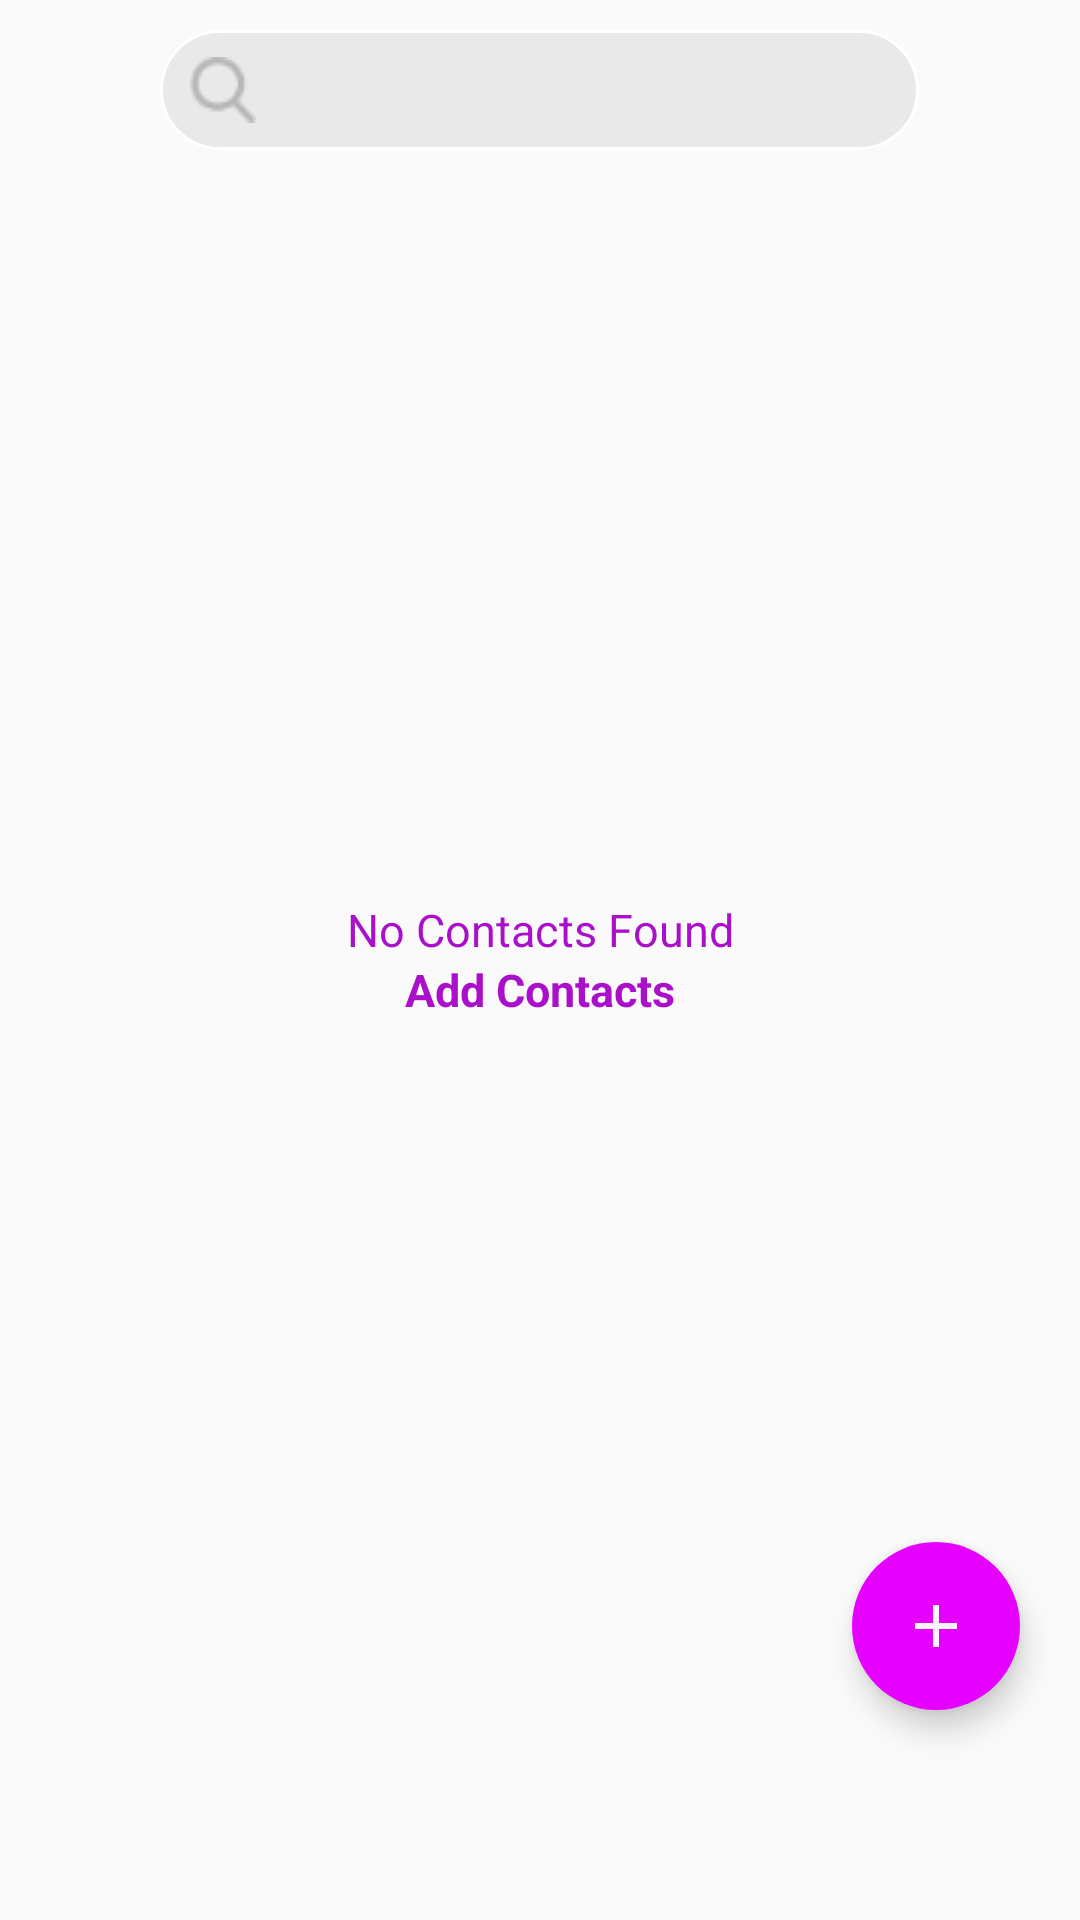

Icons on this 1080*1920 Android screen, each with its box as box=[x1, y1, x2, y2]:
add: box=[852, 1542, 1020, 1710]
